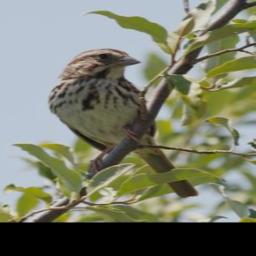Sparrow: (50, 48, 200, 198)
